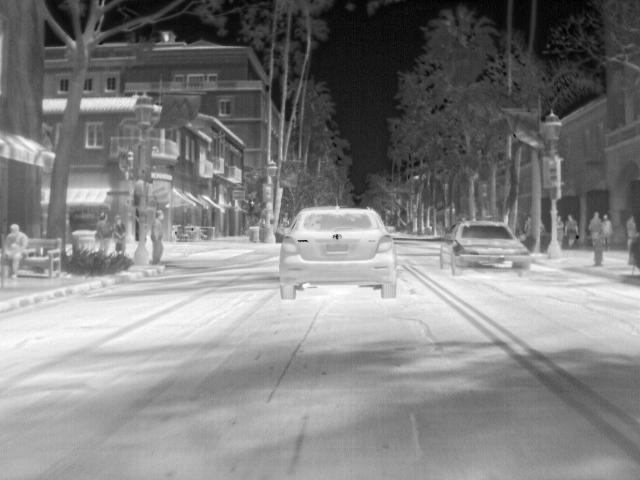car: (278, 204, 401, 300), (438, 220, 532, 276)
person: (2, 220, 29, 280), (151, 208, 166, 265), (96, 212, 114, 255), (599, 210, 613, 252), (564, 213, 580, 249), (589, 209, 603, 250), (113, 215, 127, 256), (626, 213, 639, 253), (557, 214, 565, 244)
